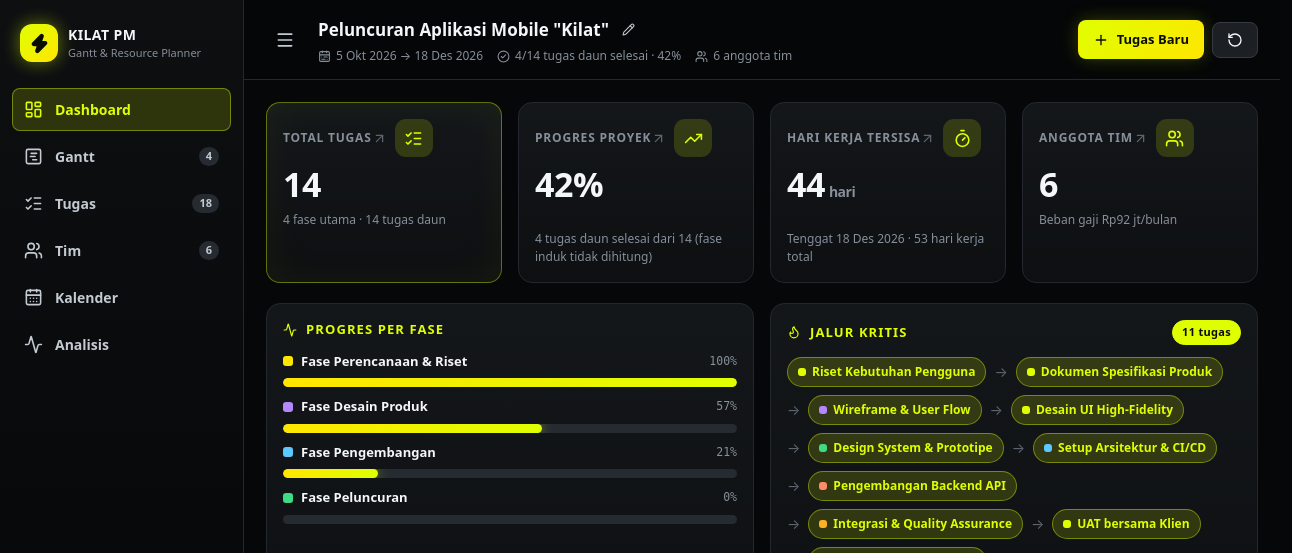
it: App smoke test › navigates across every view without crashing
Step 1. Click the button "Gantt 4" → [122, 156], box [12,135,231,178]
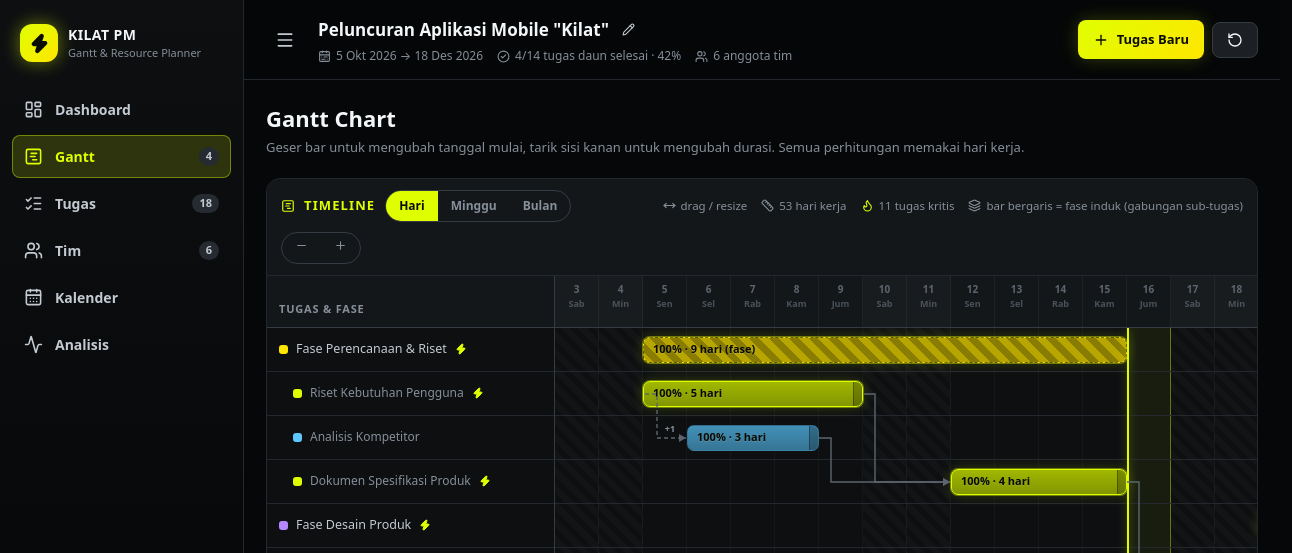
expect the heading "Gantt Chart" is shown: met, box [266,103,396,133]
Step 2. Click the button "Tugas 18" → [122, 204], box [12,182,231,225]
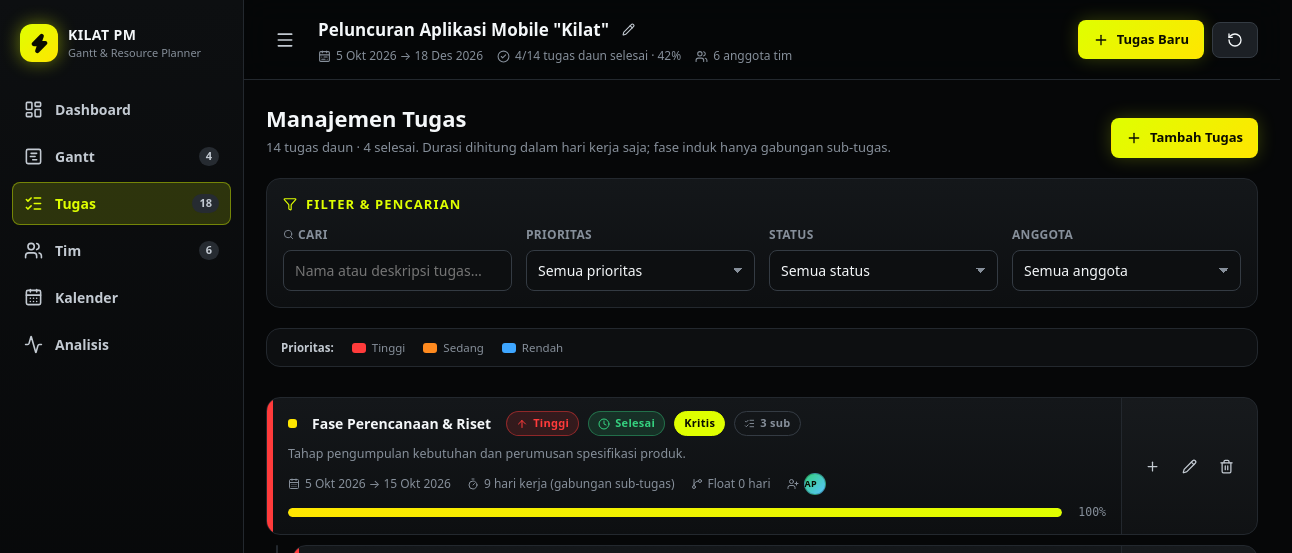
expect the heading "Manajemen Tugas" is shown: met, box [266,103,466,133]
Step 3. Click the button "Tim 6" → [122, 250], box [12,229,231,272]
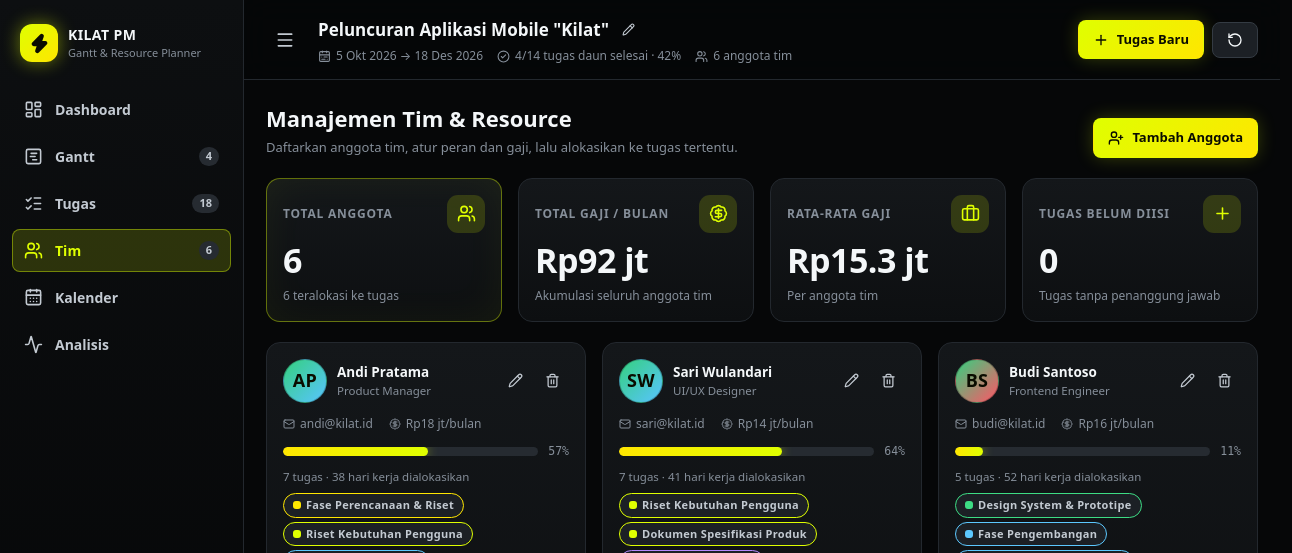
expect the heading "Manajemen Tim & Resource" is shown: met, box [266,103,572,133]
Step 4. Click the button "Kalender" → [122, 298], box [12,276,231,319]
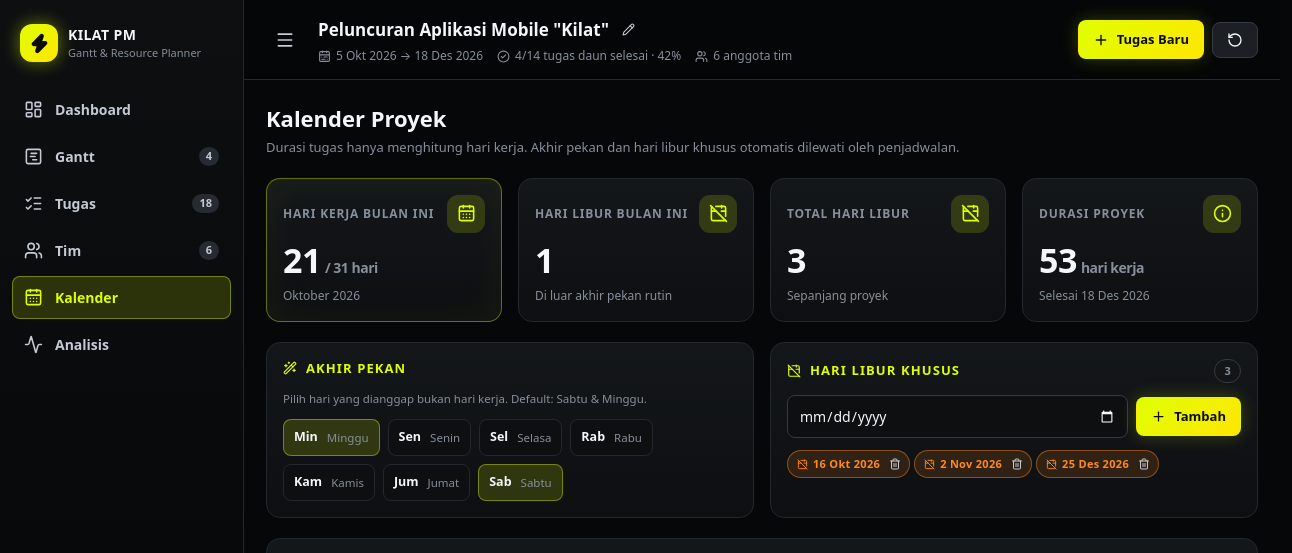
expect the heading "Kalender Proyek" is shown: met, box [266,103,446,133]
expect the text "Hari Kerja Bulan Ini" is shown: met, box [283,204,434,222]
Step 5. Click the button "Analisis" → [122, 344], box [12,323,231,366]
(page scrolled)
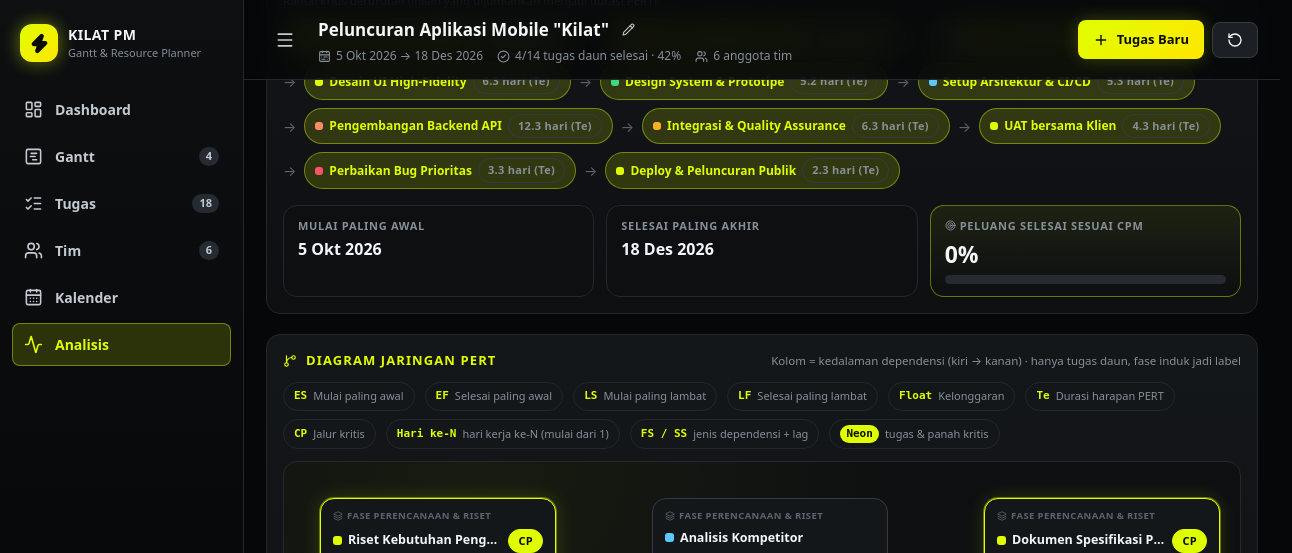
expect the text "Diagram Jaringan PERT" is shown: met, box [283,351,496,370]
